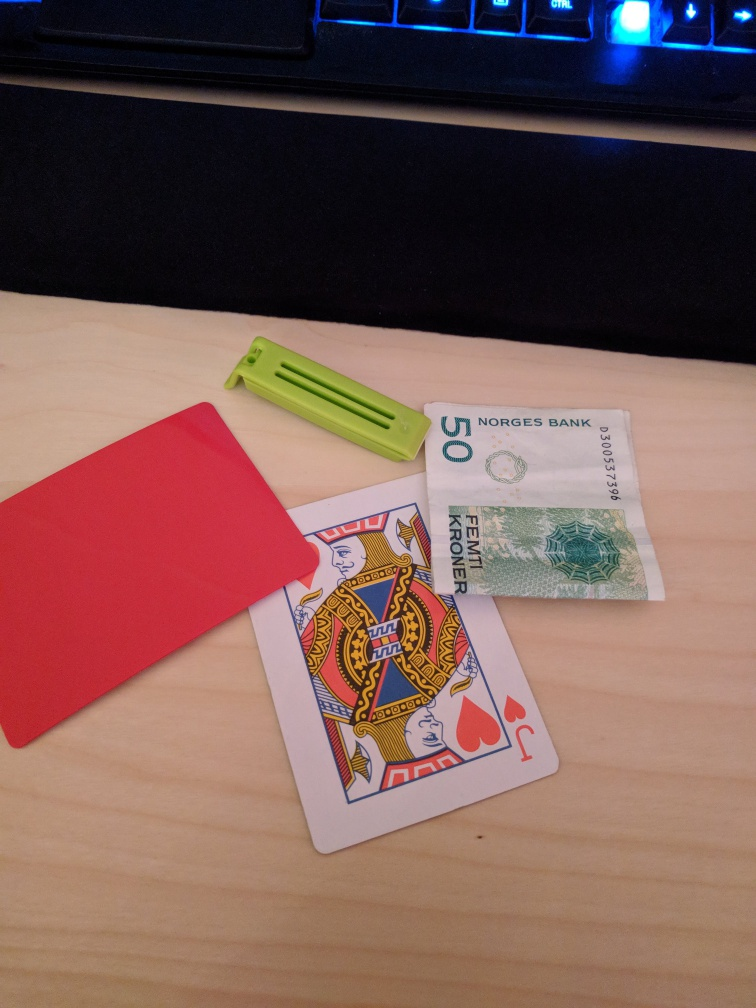jack: (247, 470, 560, 856)
